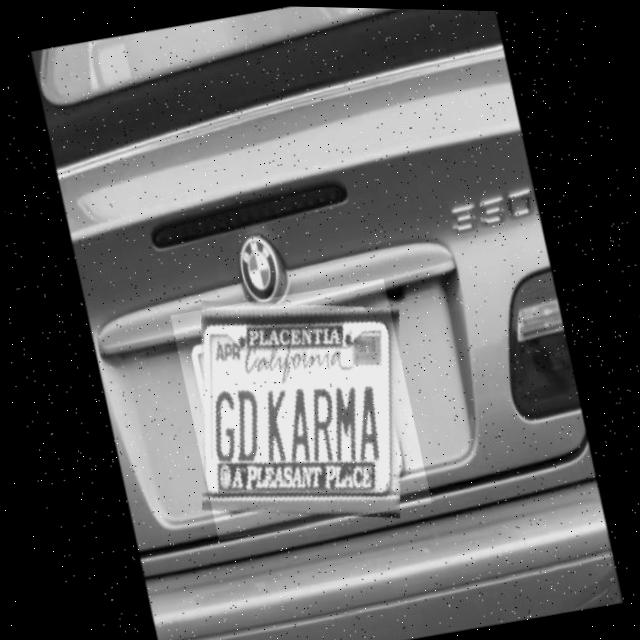LicensePlate: (169, 273, 430, 543)
